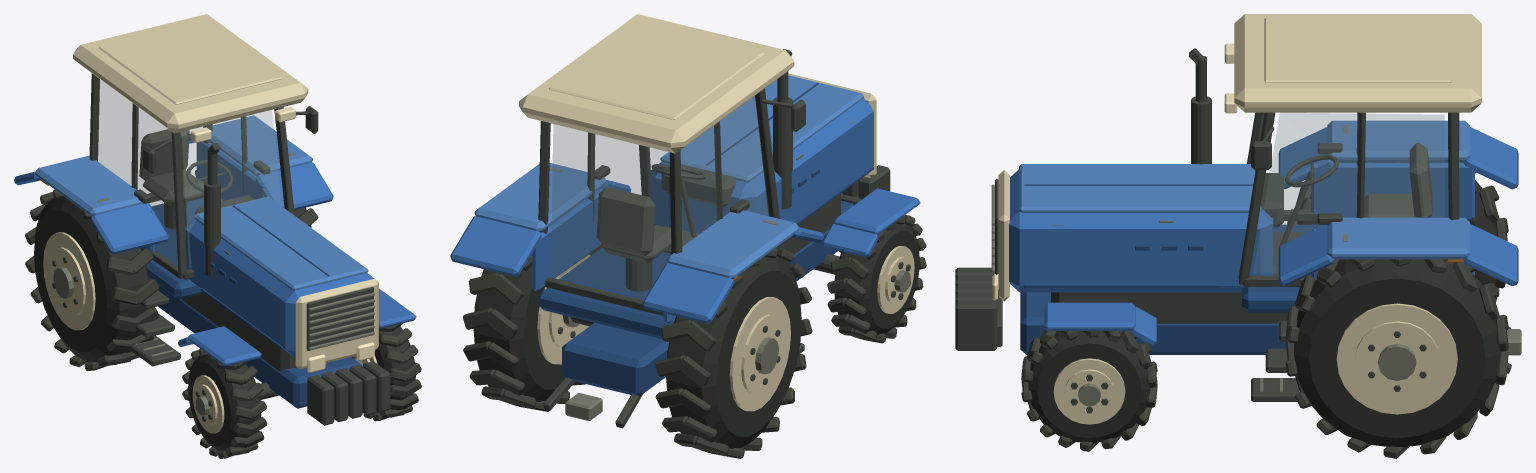
Rendered from blue_tractor_B_v1.glb.
3 renders of one model, left to right at view 1: azimuth 30°, elevation 25°; view 2: azimuth 150°, elevation 25°; view 3: azimuth 270°, elevation 25°, orthographic. The views are drawn at different scales.
Visible parts, largest first — view 1: Tractor_Body, Tractor_Cab, Tractor_RearWheel_-1, Tractor_Windows, Tractor_FrontWheel_-1, Tractor_FrontWheel_1; view 2: Tractor_Body, Tractor_Cab, Tractor_Windows, Tractor_RearWheel_-1, Tractor_RearWheel_1, Tractor_FrontWheel_-1; view 3: Tractor_Body, Tractor_Cab, Tractor_RearWheel_1, Tractor_Windows, Tractor_FrontWheel_1, Tractor_RearWheel_-1.
Part boxes in pixels (box(x1,y1,x2,y2)): Tractor_Body: box(14, 115, 416, 425); Tractor_Cab: box(73, 14, 318, 299); Tractor_RearWheel_-1: box(25, 189, 159, 370); Tractor_Windows: box(98, 79, 281, 267); Tractor_FrontWheel_-1: box(182, 348, 267, 458); Tractor_FrontWheel_1: box(352, 323, 421, 421); Tractor_Body: box(450, 49, 920, 428); Tractor_Cab: box(519, 14, 805, 339); Tractor_Windows: box(551, 96, 769, 297); Tractor_RearWheel_-1: box(655, 248, 812, 458); Tractor_RearWheel_1: box(463, 246, 602, 411); Tractor_FrontWheel_-1: box(827, 215, 926, 343); Tractor_Body: box(955, 48, 1521, 401); Tractor_Cab: box(1224, 14, 1481, 312); Tractor_RearWheel_1: box(1285, 259, 1508, 458); Tractor_Windows: box(1253, 113, 1444, 273); Tractor_FrontWheel_1: box(1021, 329, 1157, 451); Tractor_RearWheel_-1: box(1287, 162, 1508, 302).
Bounding box in the file's own units: 2.25 × 2.75 × 4.05.
